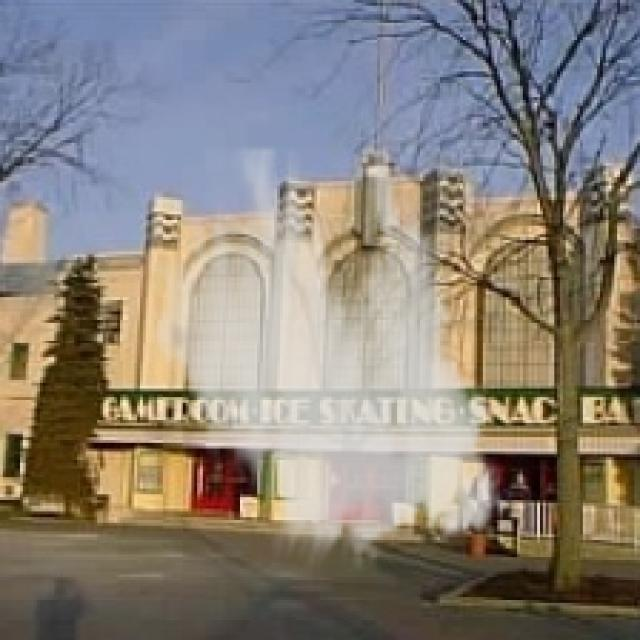smoke: (143, 146, 517, 571)
